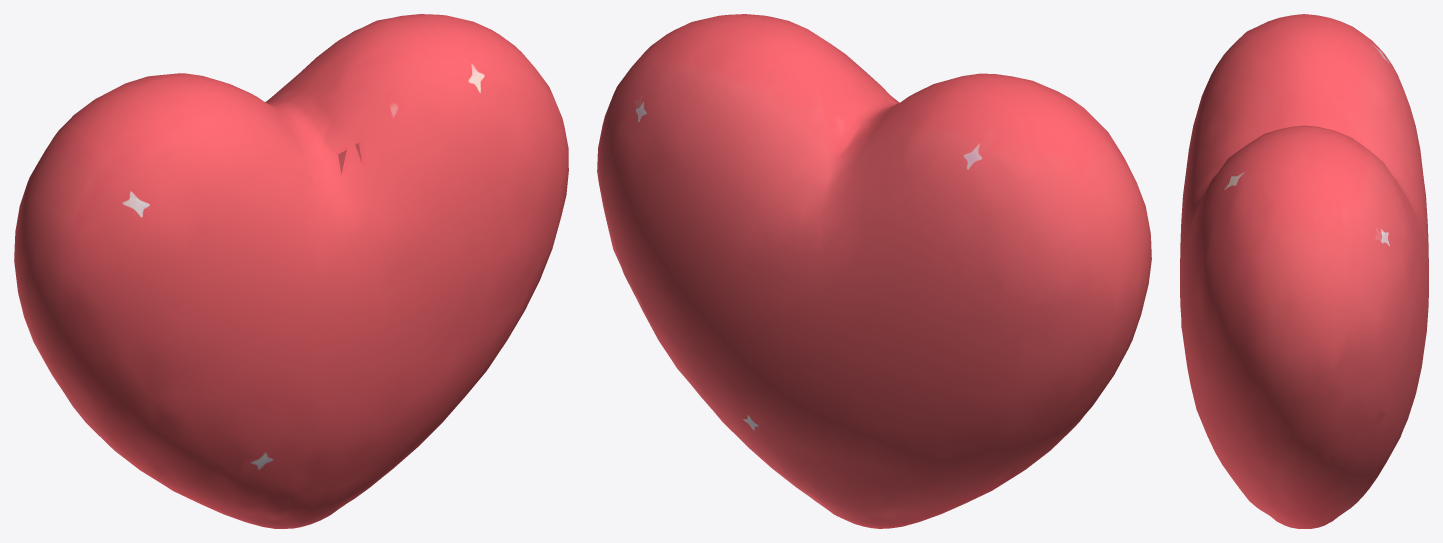
File: heart.glb
3 renders of one model, left to right at view 1: azimuth 30°, elevation 25°; view 2: azimuth 150°, elevation 25°; view 3: azimuth 270°, elevation 25°, orthographic. The views are drawn at different scales.
Bounding box in the file's own units: 0.9497 × 0.8018 × 0.4136.
Materials: 1 (1 with a texture image).
